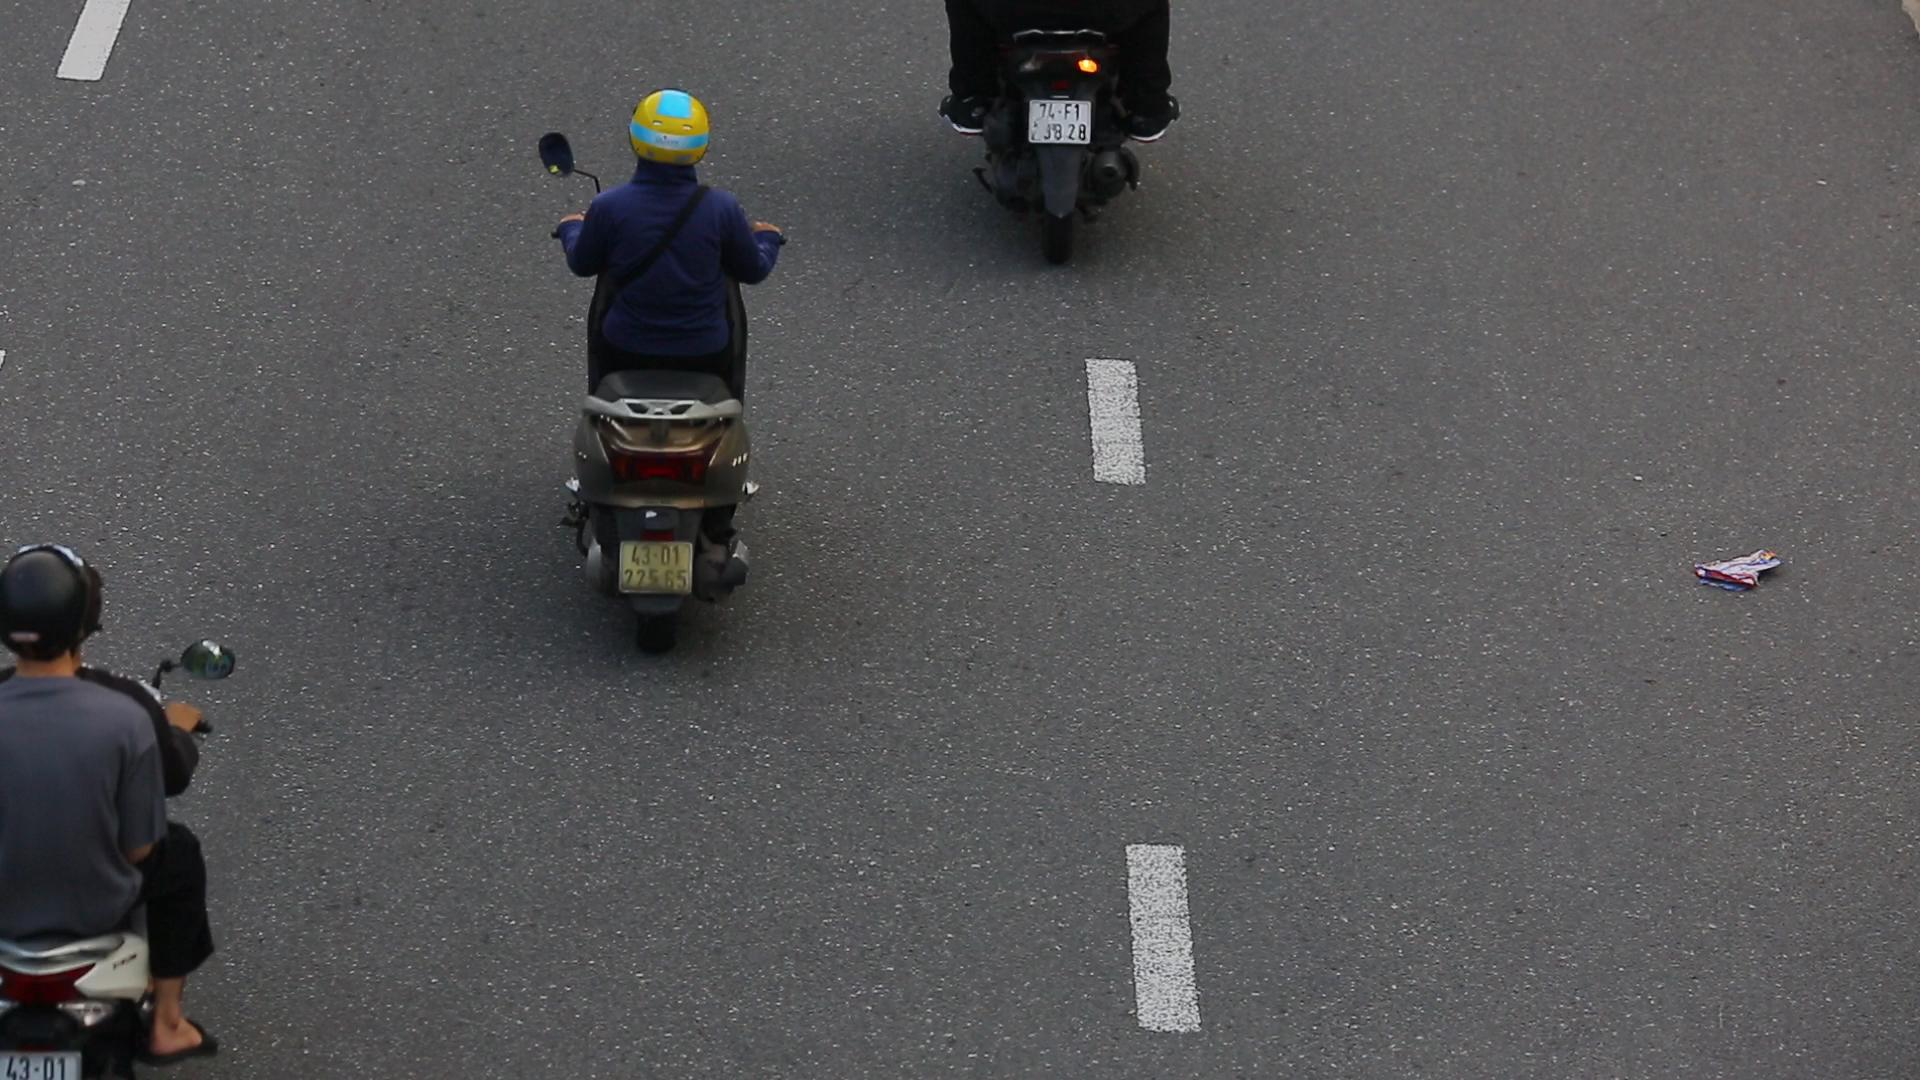motobike: (534, 82, 799, 661)
